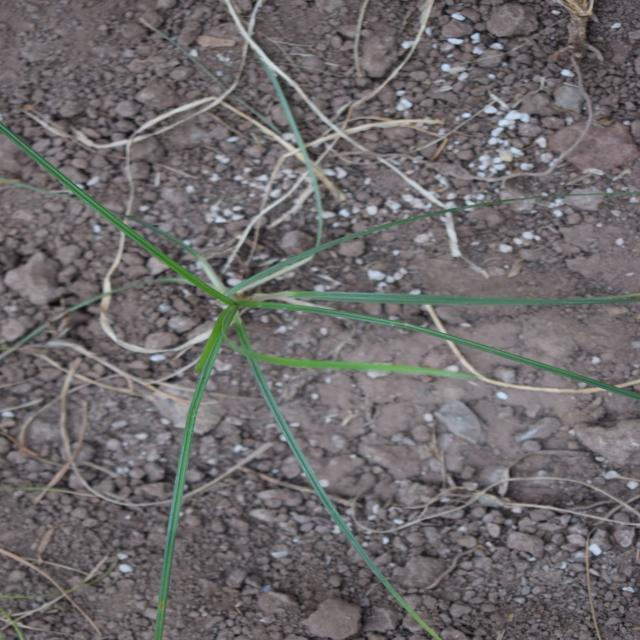sedge: (0, 77, 457, 608)
